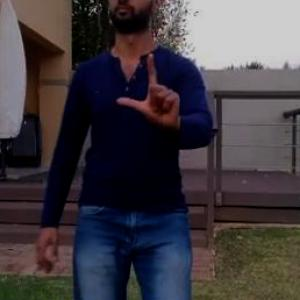land_hand: (115, 45, 185, 135)
